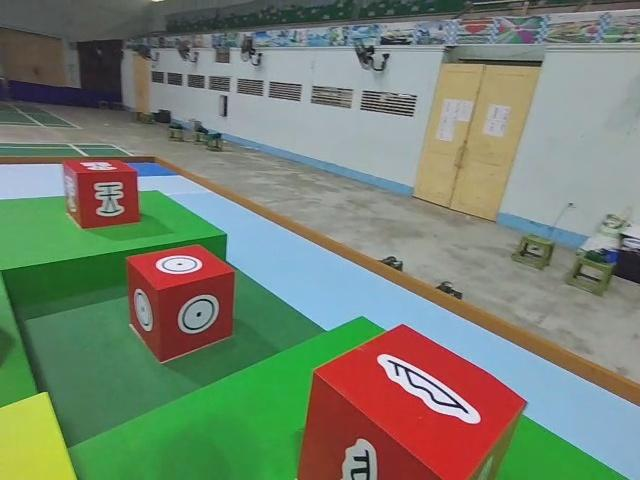R2 Real: (301, 321, 525, 480), (127, 244, 236, 361), (60, 158, 139, 227)
